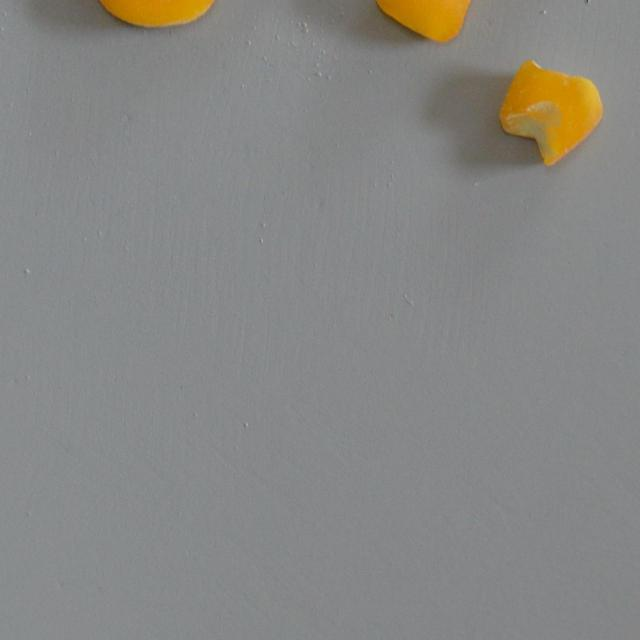no_canjicado: (499, 58, 603, 167), (372, 0, 478, 44), (91, 0, 220, 30)
